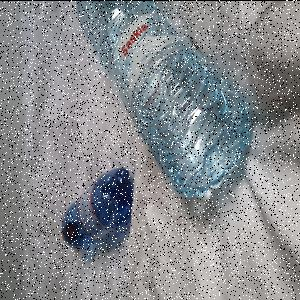Plastic-bottle: (75, 2, 255, 200), (61, 168, 134, 252)
